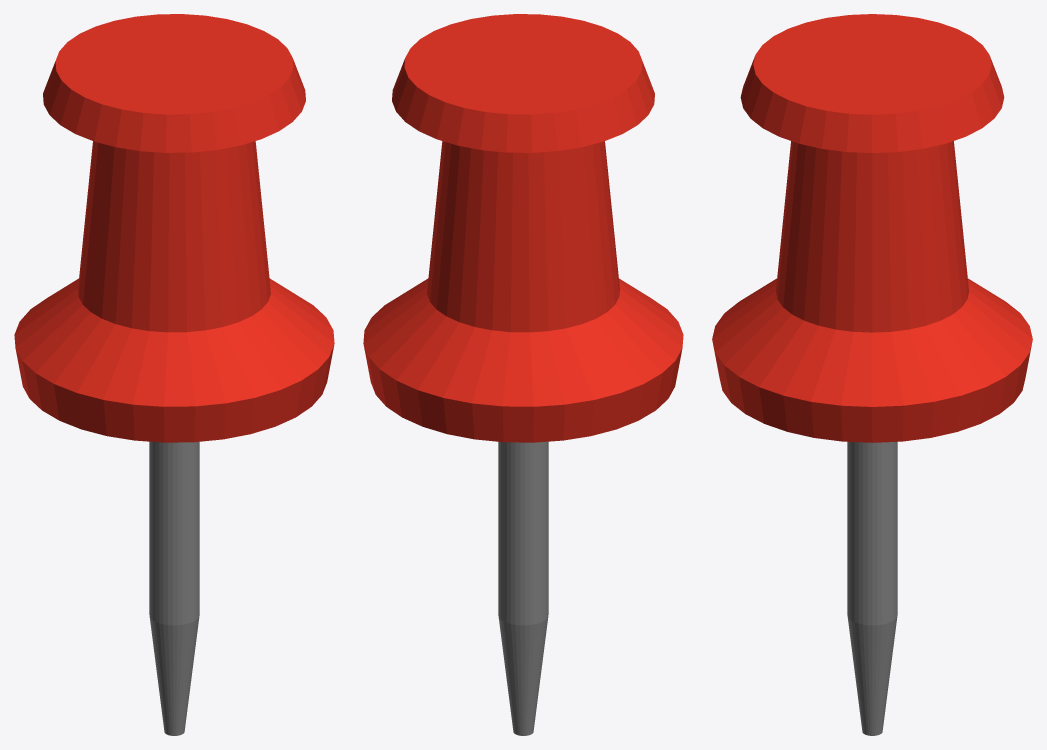
File: pin.glb
3 views of the same model, side by side, from view 1: azimuth 30°, elevation 25°; view 2: azimuth 150°, elevation 25°; view 3: azimuth 270°, elevation 25° (orthographic).
Visible parts, largest first — view 1: Cylinder; view 2: Cylinder; view 3: Cylinder.
Part boxes in pixels (box(x1,y1,x2,y2)): Cylinder: box(14, 14, 334, 735); Cylinder: box(363, 14, 683, 735); Cylinder: box(712, 14, 1032, 735).
Bounding box in the file's own units: 0.9382 × 2.15 × 0.9382.
